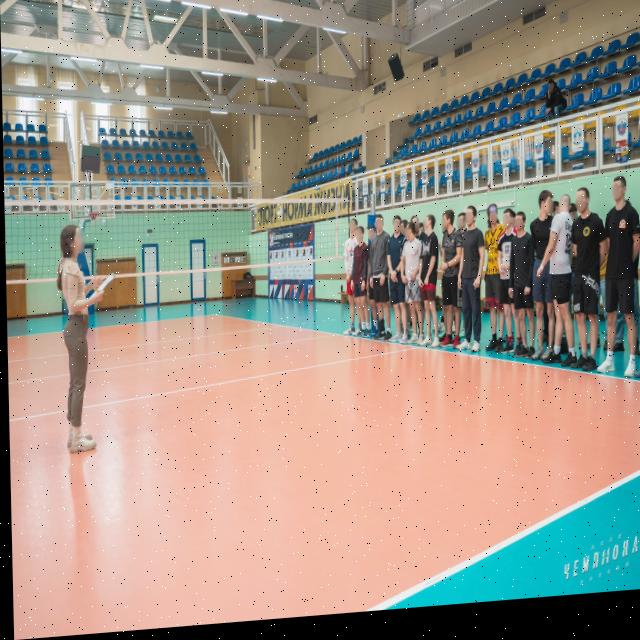Person: (53, 218, 101, 467), (591, 181, 637, 392), (569, 192, 600, 393), (544, 203, 575, 386), (530, 197, 556, 374), (481, 210, 507, 365), (513, 217, 536, 375), (459, 210, 481, 363), (437, 214, 460, 360), (418, 220, 441, 361), (498, 214, 518, 365), (371, 219, 392, 356), (388, 222, 409, 353), (401, 226, 422, 355), (351, 229, 370, 347), (343, 223, 360, 343), (538, 80, 573, 137), (453, 214, 472, 241), (547, 209, 561, 231), (365, 227, 377, 252), (568, 209, 580, 231), (411, 218, 422, 242)
